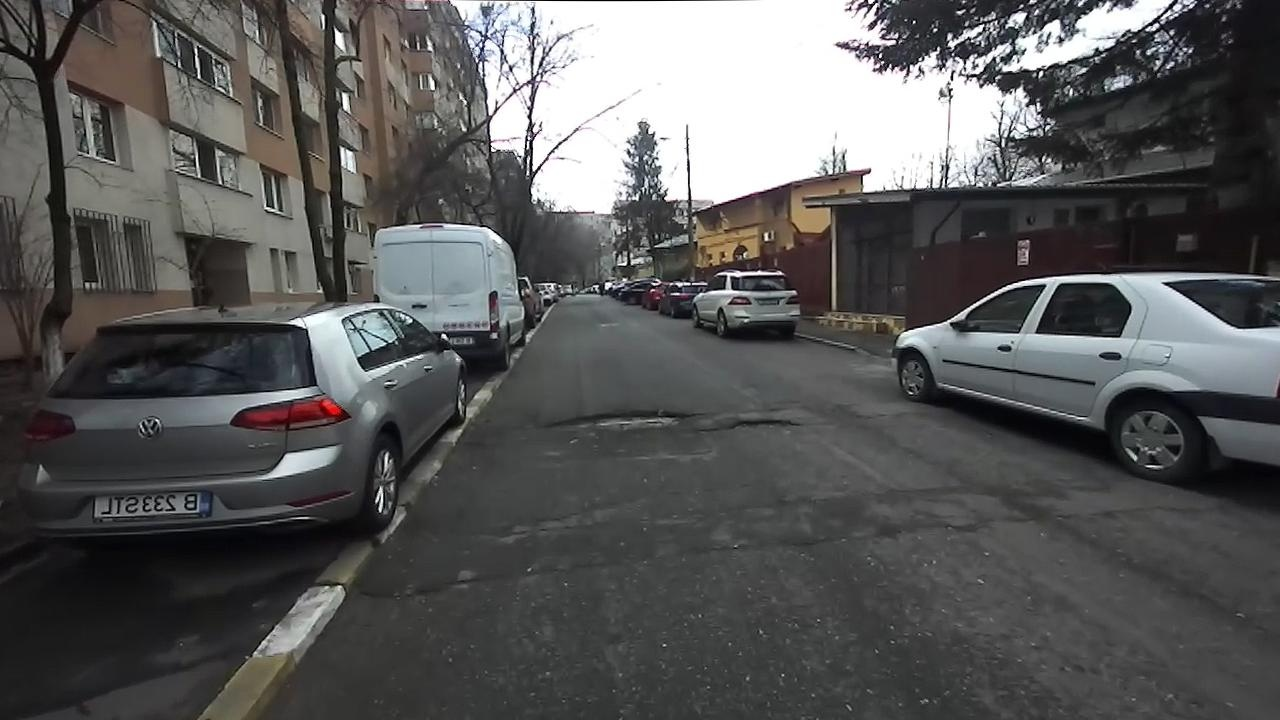pothole: (542, 407, 691, 439), (362, 571, 481, 602), (724, 413, 801, 433)
